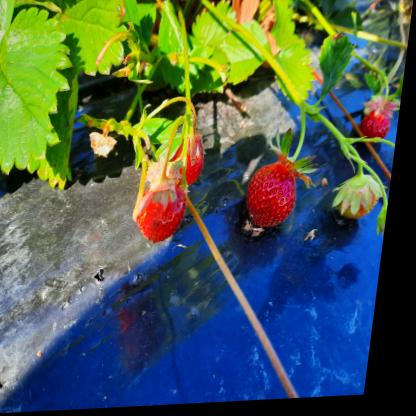ripe: (253, 163, 307, 231), (141, 181, 191, 246), (168, 138, 209, 187), (368, 115, 397, 142)
unripe: (341, 185, 384, 219)
